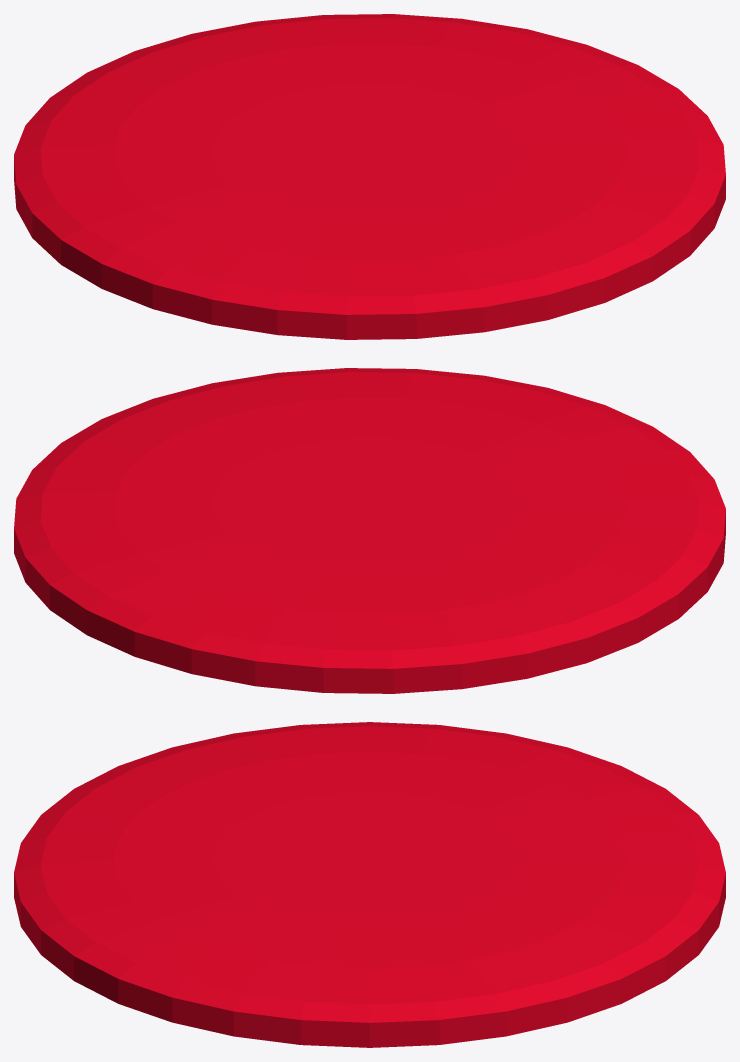
The model's file is hamburger domates.fbx.
The picture shows the model from 3 angles, top to bottom: view 1: azimuth 30°, elevation 25°; view 2: azimuth 150°, elevation 25°; view 3: azimuth 270°, elevation 25°; orthographic projection.
Visible parts, largest first — view 1: Cylinder.001; view 2: Cylinder.001; view 3: Cylinder.001.
Boxes of the visible parts, x1,y1,x2,y2 form: Cylinder.001: (14, 14, 725, 339); Cylinder.001: (14, 368, 725, 693); Cylinder.001: (14, 722, 725, 1047).
Size of the model in its own units: 50 by 4 by 50.
